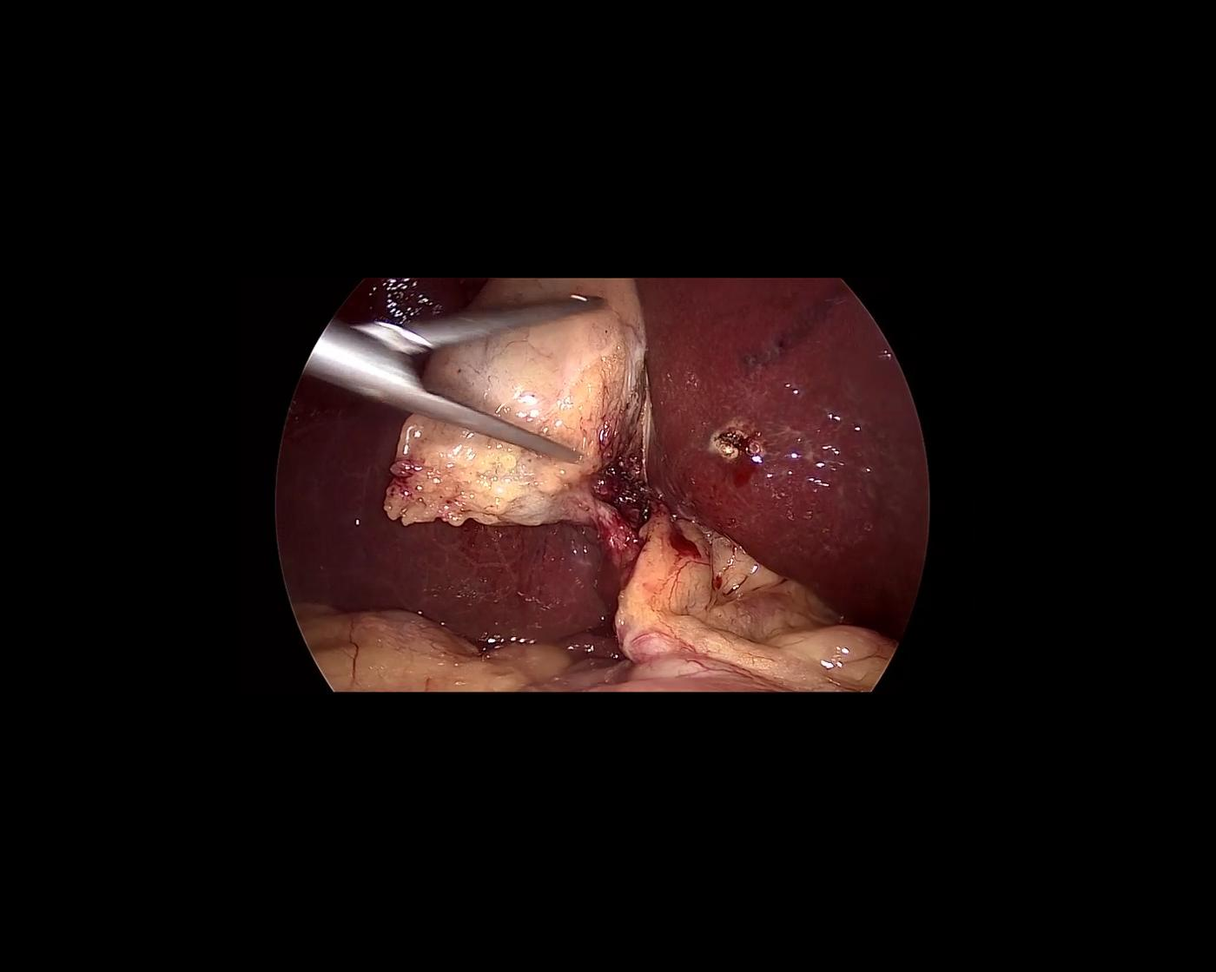Forceps: (302, 225, 625, 465)
Gallbladder: (384, 278, 649, 527)
Liver: (264, 261, 652, 662), (634, 261, 935, 659)
